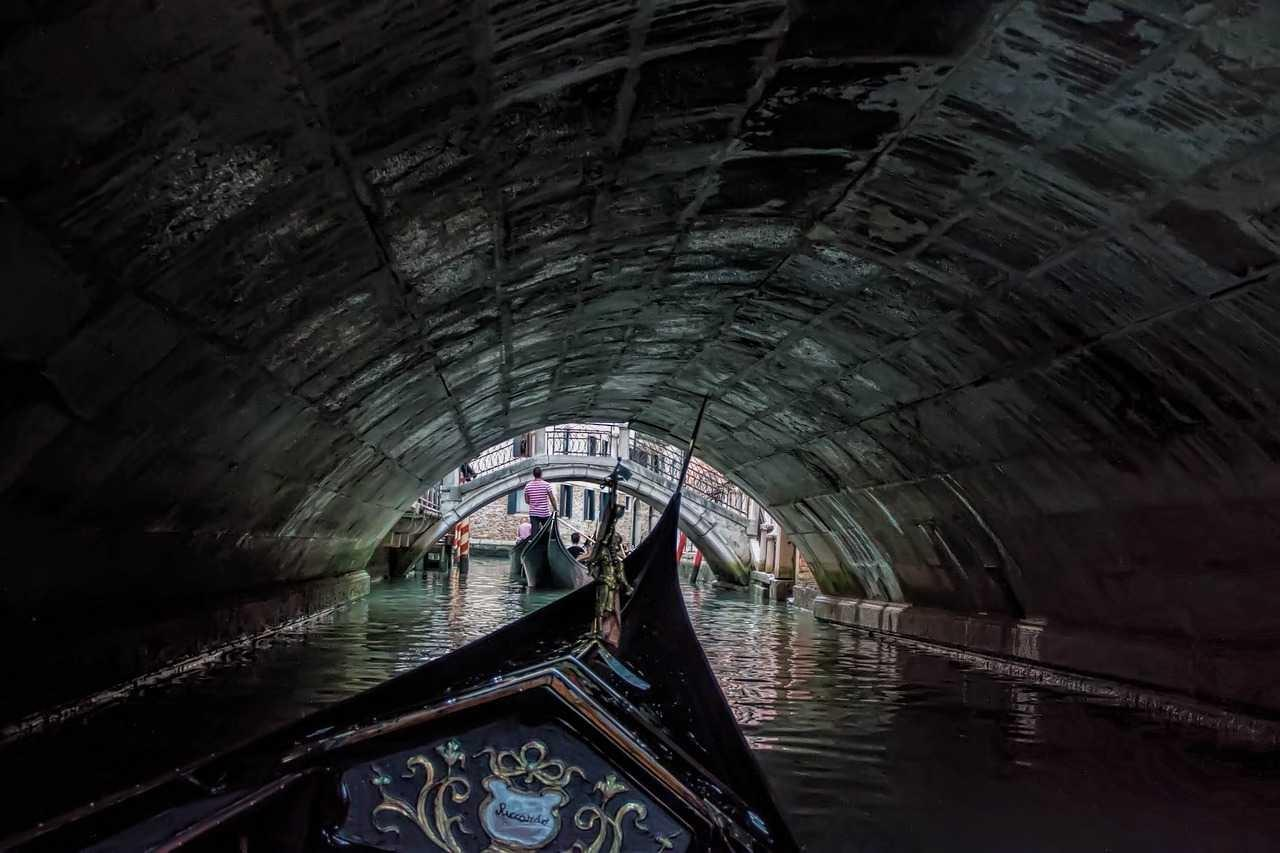kayak: (28, 398, 799, 848), (512, 506, 599, 592)
